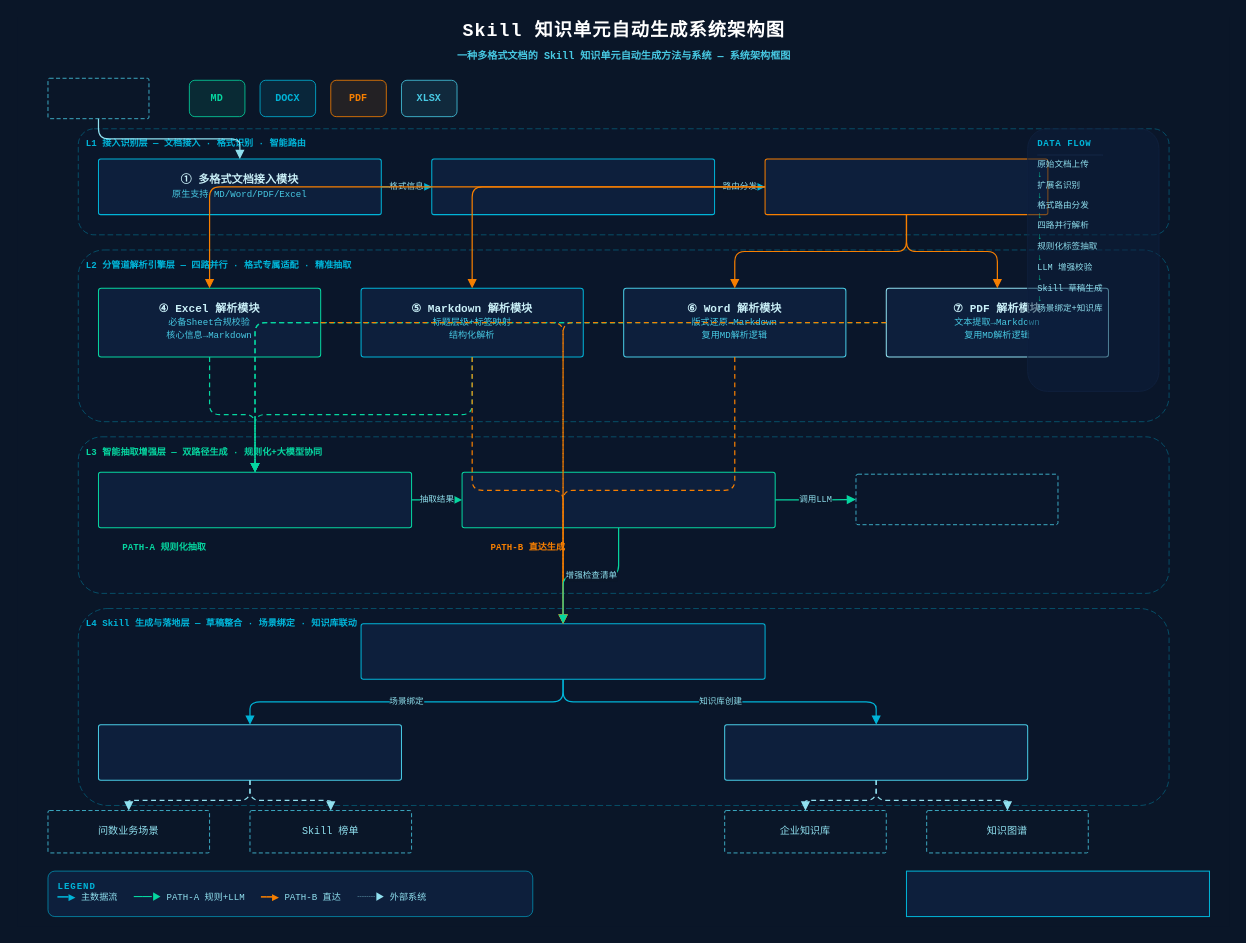
This 1246x943 diagram has some shape labels left out. The centre of each missing label's shape, as x and y in pixels:
"Kimi 大模型 LLM 增强校验" belongs at (956,499).
"PATENT / 系统架构框图 Skill 知识单元自动生成系统" belongs at (1057,893).
"USER 上传文档" belongs at (98,98).
"② 文件扩展名识别模块 格式校验·类型确认" belongs at (573,186).
"③ 格式路由分支模块 按扩展名分发至解析管道" belongs at (906,186).
"⑧ 规则化标签抽取模块 6类核心标签·逐行扫描·行首匹配" belongs at (254,499).
"⑨ 大模型增强检查模块 Kimi LLM·补全纠错·标准化优化" belongs at (618,499).
"⑩ 标准 Skill 草稿生成模块 整合结构化信息 + 标准化检查清单" belongs at (562,651).
"⑪ 场景绑定模块 绑定问数业务场景·接入Skill榜单" belongs at (249,752).
"⑫ 知识库关联模块 创建关联知识库·企业知识联动" belongs at (876,752).
